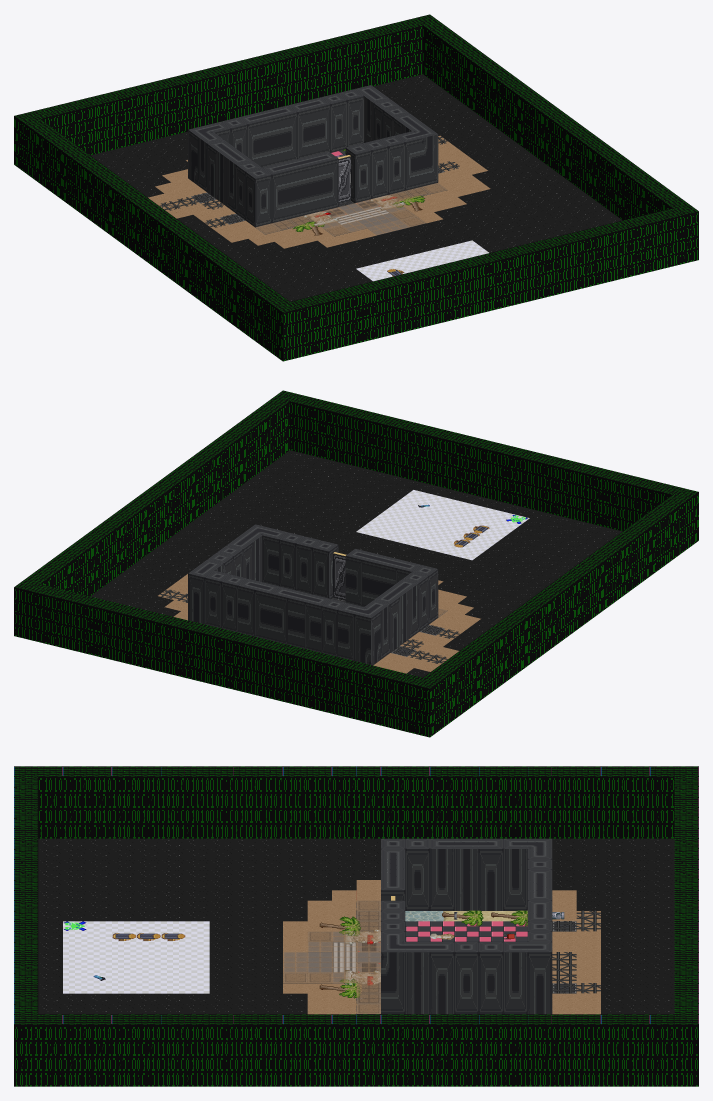
The model's file is vaporwave.performance.glb.
3 views of the same model, one above another, from view 1: azimuth 30°, elevation 25°; view 2: azimuth 150°, elevation 25°; view 3: azimuth 270°, elevation 25° (orthographic). The views are drawn at different scales.
Visible parts, largest first — view 1: Wall tiles, Space tiles, Asteroid tiles, Objects - merged, Floor tiles, Plating tiles, Doors - merged; view 2: Wall tiles, Space tiles, Floor tiles, Asteroid tiles, Objects - merged, Doors - merged; view 3: Wall tiles, Space tiles, Floor tiles, Objects - merged, Asteroid tiles, Plating tiles, Machines - merged.
Boxes of the visible parts, left/top/right/bottom form: Wall tiles: left=14, top=14, right=698, bottom=361; Space tiles: left=90, top=74, right=622, bottom=301; Asteroid tiles: left=148, top=135, right=490, bottom=248; Objects - merged: left=159, top=137, right=459, bottom=236; Floor tiles: left=320, top=150, right=488, bottom=280; Plating tiles: left=191, top=167, right=447, bottom=236; Doors - merged: left=338, top=155, right=350, bottom=203; Wall tiles: left=14, top=390, right=698, bottom=737; Space tiles: left=90, top=450, right=622, bottom=677; Floor tiles: left=331, top=490, right=528, bottom=602; Asteroid tiles: left=158, top=574, right=480, bottom=673; Objects - merged: left=159, top=504, right=527, bottom=663; Doors - merged: left=333, top=552, right=346, bottom=600; Wall tiles: left=14, top=766, right=698, bottom=1086; Space tiles: left=38, top=838, right=674, bottom=1014; Floor tiles: left=63, top=911, right=527, bottom=992; Objects - merged: left=64, top=900, right=600, bottom=1014; Asteroid tiles: left=283, top=880, right=600, bottom=1014; Plating tiles: left=283, top=901, right=576, bottom=1014; Machines - merged: left=112, top=912, right=457, bottom=999.
Bounding box in the file's own units: 25 × 2.8 × 28.
Materials: 29 (28 with a texture image).
